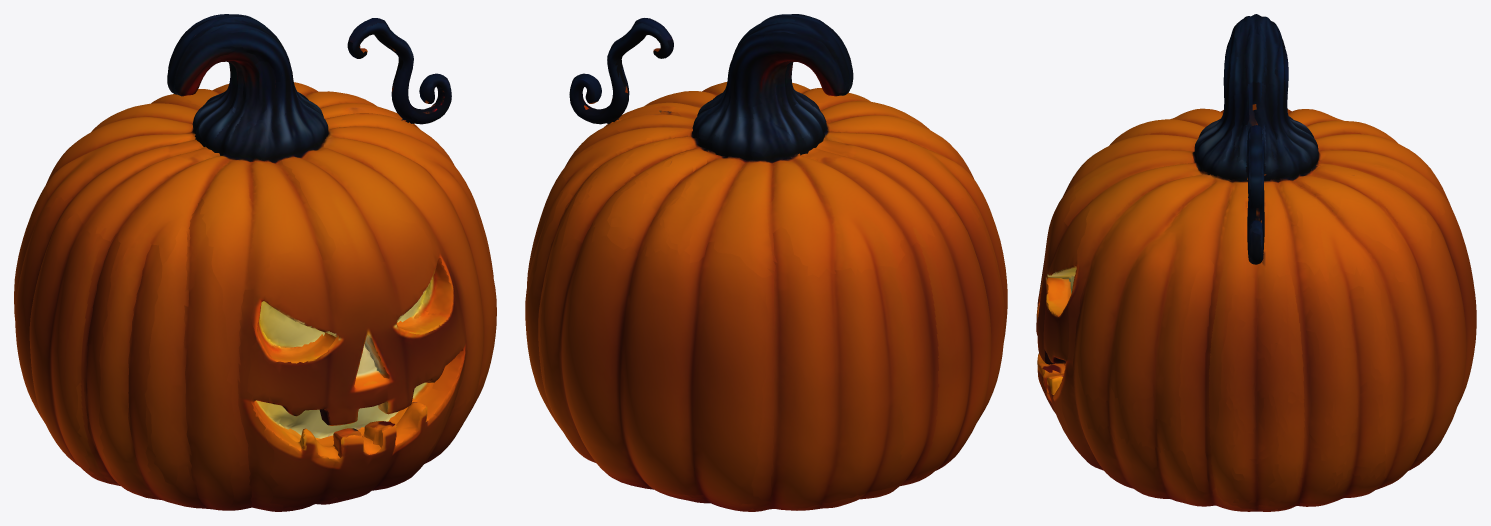
The picture shows the model from 3 angles, left to right: view 1: azimuth 30°, elevation 25°; view 2: azimuth 150°, elevation 25°; view 3: azimuth 270°, elevation 25°; orthographic projection. The views are drawn at different scales.
Visible parts, largest first — view 1: tmpoc_1_iz1.ply; view 2: tmpoc_1_iz1.ply; view 3: tmpoc_1_iz1.ply.
Part boxes in pixels (bbox=[...]): tmpoc_1_iz1.ply: bbox=[14, 14, 496, 511]; tmpoc_1_iz1.ply: bbox=[525, 14, 1007, 511]; tmpoc_1_iz1.ply: bbox=[1036, 14, 1476, 511].
Bounding box in the file's own units: 1.97 × 1.97 × 1.9.
1 material, 1 textured.
